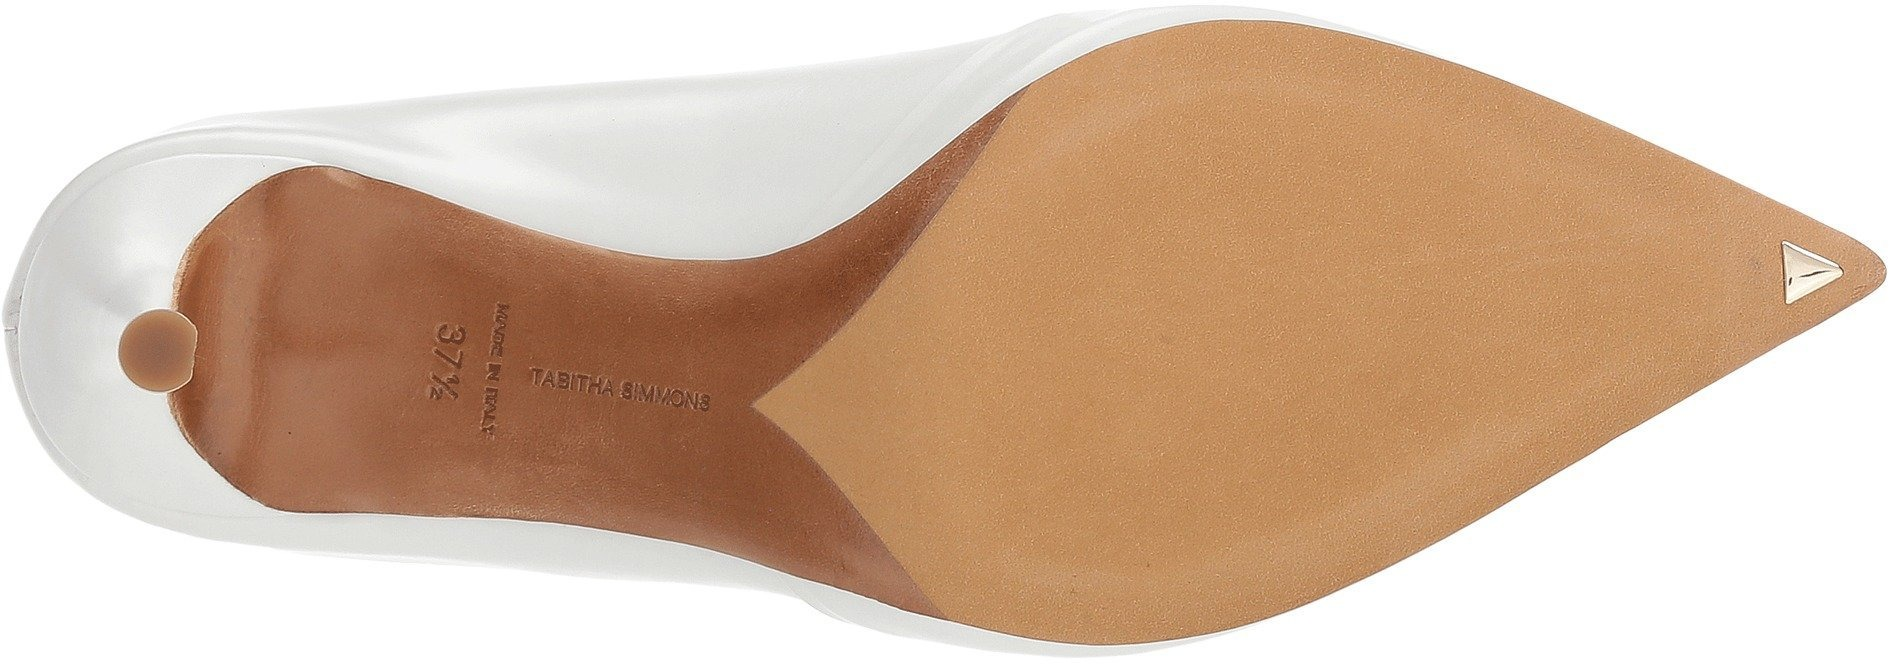exclude: (153, 127, 847, 630)
other: (958, 181, 1225, 453), (1234, 296, 1488, 517), (1240, 75, 1495, 290), (1503, 174, 1719, 376), (1008, 457, 1194, 631), (1097, 63, 1219, 175), (134, 331, 187, 384)
triangle: (1759, 219, 1850, 322)
